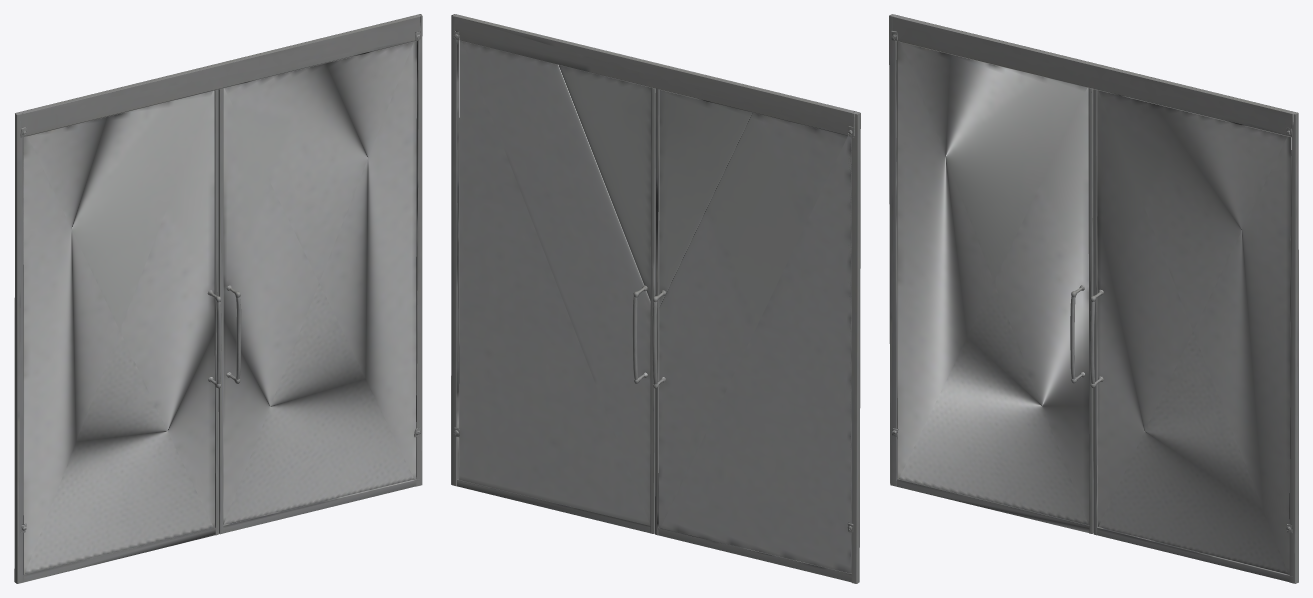
The model's file is Meshy_AI_institutional_wired_double_door_0903105727_texture.glb.
3 views of the same model, side by side, from view 1: azimuth 30°, elevation 25°; view 2: azimuth 150°, elevation 25°; view 3: azimuth 330°, elevation 25° (orthographic).
Parts seen in each view (by area): view 1: mesh_node; view 2: mesh_node; view 3: mesh_node.
Boxes of the visible parts, x1=… form: mesh_node: x1=14, y1=14, x2=422, y2=583; mesh_node: x1=451, y1=14, x2=860, y2=583; mesh_node: x1=889, y1=14, x2=1298, y2=583.
Size of the model in its own units: 0.9082 by 1 by 0.0967.
Materials: 1 (1 with a texture image).
